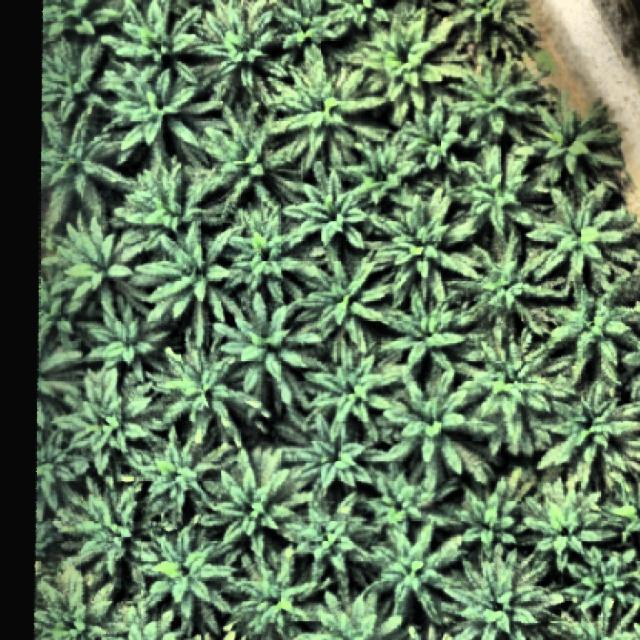Kelapa_Sawit: (266, 38, 389, 178), (445, 227, 570, 350), (468, 324, 577, 458), (134, 216, 242, 349), (150, 333, 268, 449), (369, 186, 482, 306), (197, 98, 306, 214), (101, 65, 224, 167), (40, 208, 148, 324), (528, 184, 637, 298), (134, 521, 237, 640), (215, 290, 323, 398), (355, 0, 460, 111), (54, 472, 158, 580), (53, 368, 153, 479), (115, 154, 232, 248), (214, 446, 311, 556), (375, 366, 468, 476), (367, 522, 465, 624), (100, 0, 209, 91), (534, 88, 626, 194), (137, 422, 231, 524), (522, 474, 616, 574), (444, 137, 534, 240), (231, 210, 324, 308), (203, 0, 292, 100), (302, 250, 386, 355), (296, 490, 379, 596), (444, 49, 540, 138), (229, 544, 316, 640), (304, 352, 396, 440), (456, 467, 542, 561), (82, 298, 173, 384), (286, 168, 376, 250), (297, 404, 371, 494), (387, 290, 464, 376), (366, 466, 460, 536), (347, 120, 425, 202), (402, 98, 460, 174)
